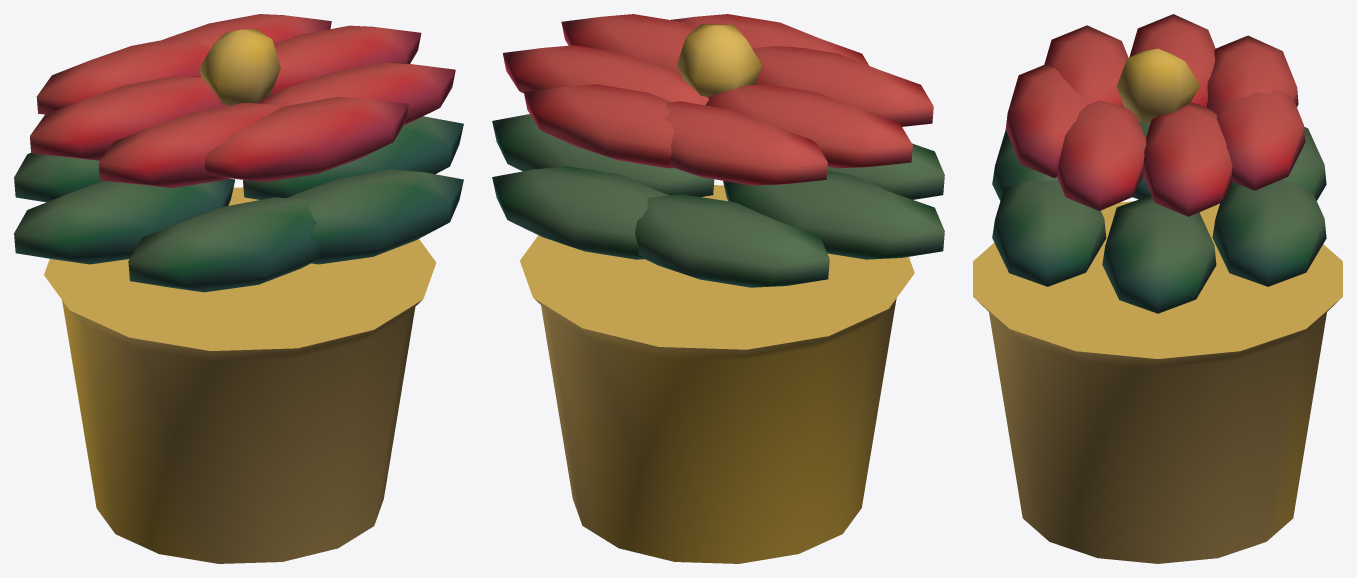
The model's file is Poinsettia.fbx.
3 renders of one model, left to right at view 1: azimuth 30°, elevation 25°; view 2: azimuth 150°, elevation 25°; view 3: azimuth 270°, elevation 25°, orthographic. The views are drawn at different scales.
Parts seen in each view (by area): view 1: SM_Xmas_Poinsettia; view 2: SM_Xmas_Poinsettia; view 3: SM_Xmas_Poinsettia.
Boxes of the visible parts, x1,y1,x2,y2 form: SM_Xmas_Poinsettia: (14, 14, 463, 563); SM_Xmas_Poinsettia: (492, 14, 944, 563); SM_Xmas_Poinsettia: (973, 14, 1342, 563).
Size of the model in its own units: 2.16 by 2.18 by 1.6.
